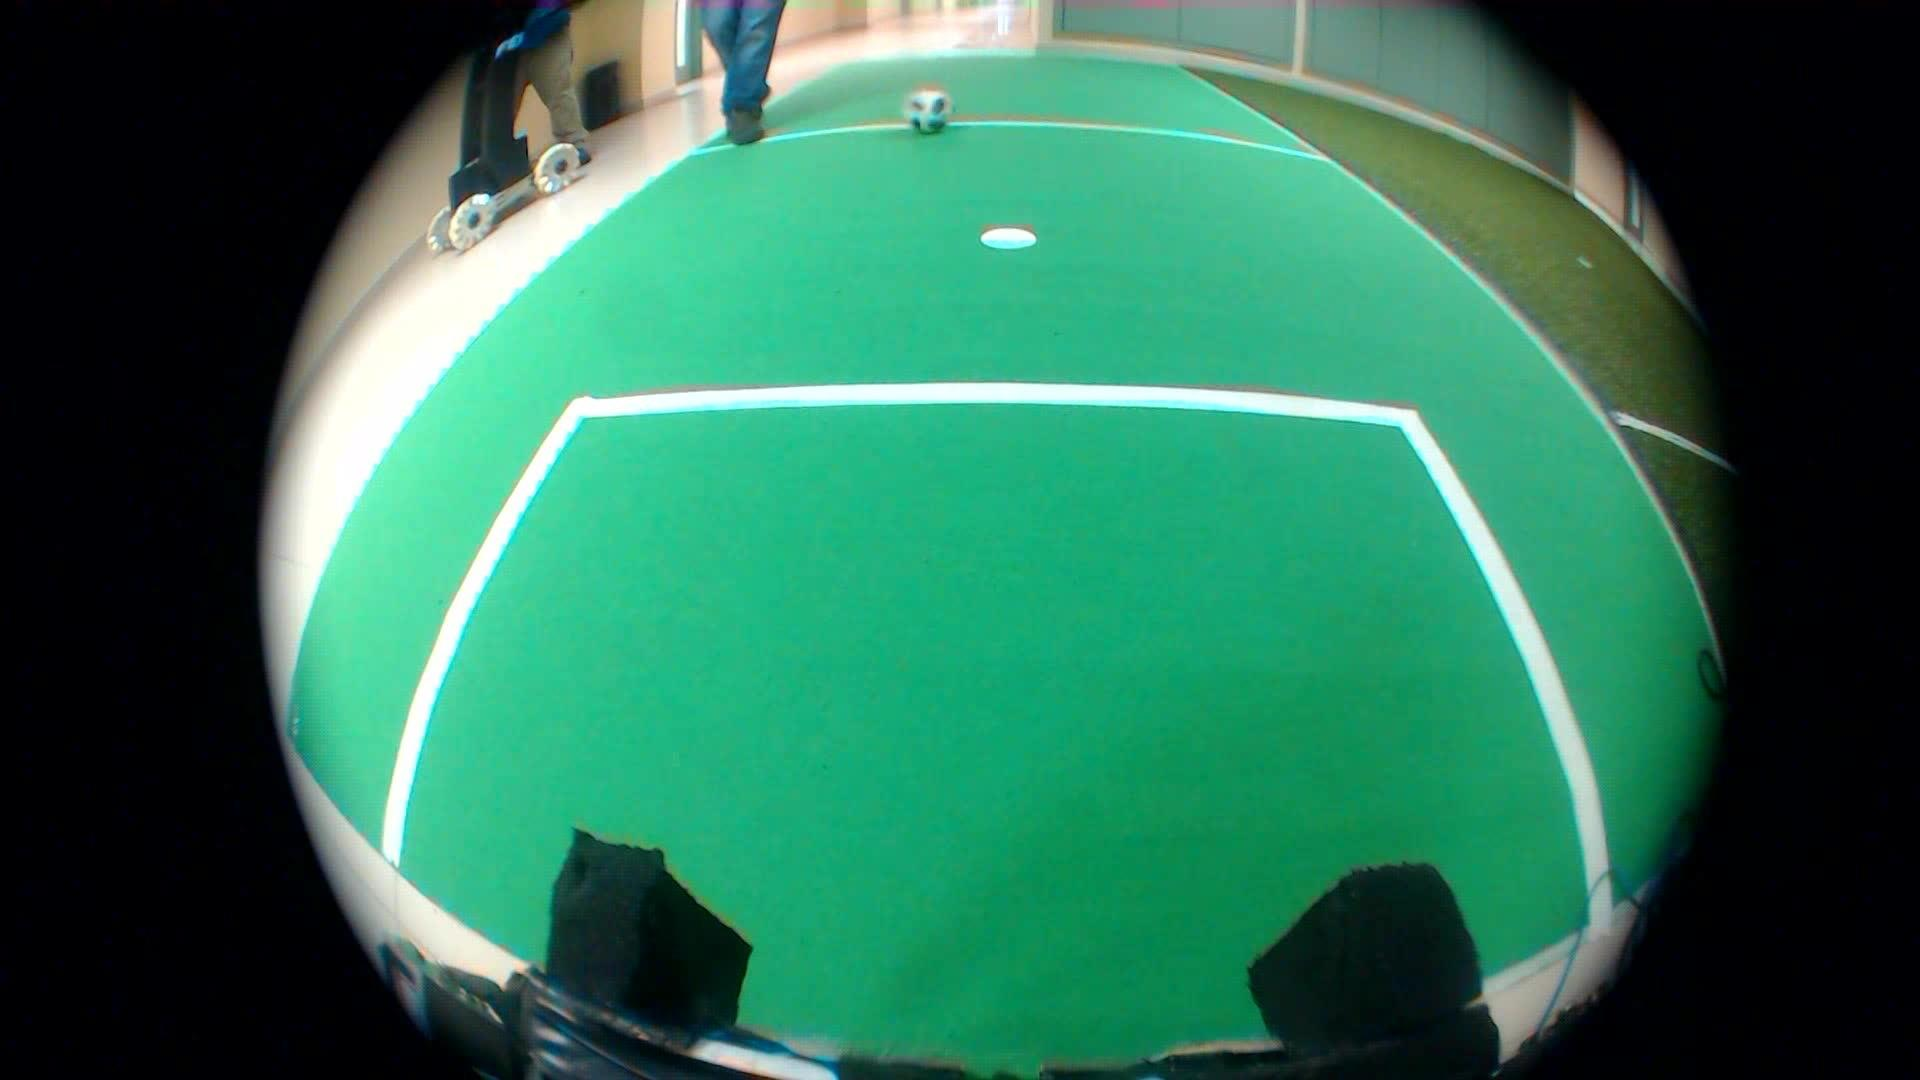ball: (898, 75, 957, 137)
